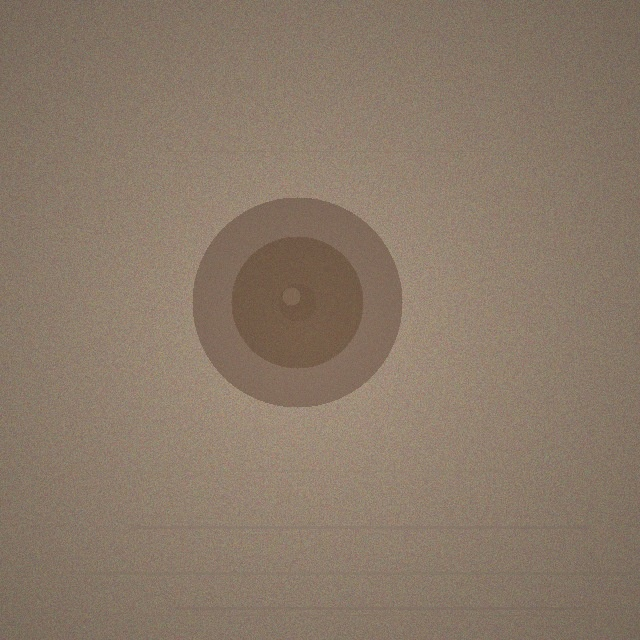good: (192, 197, 402, 407)
